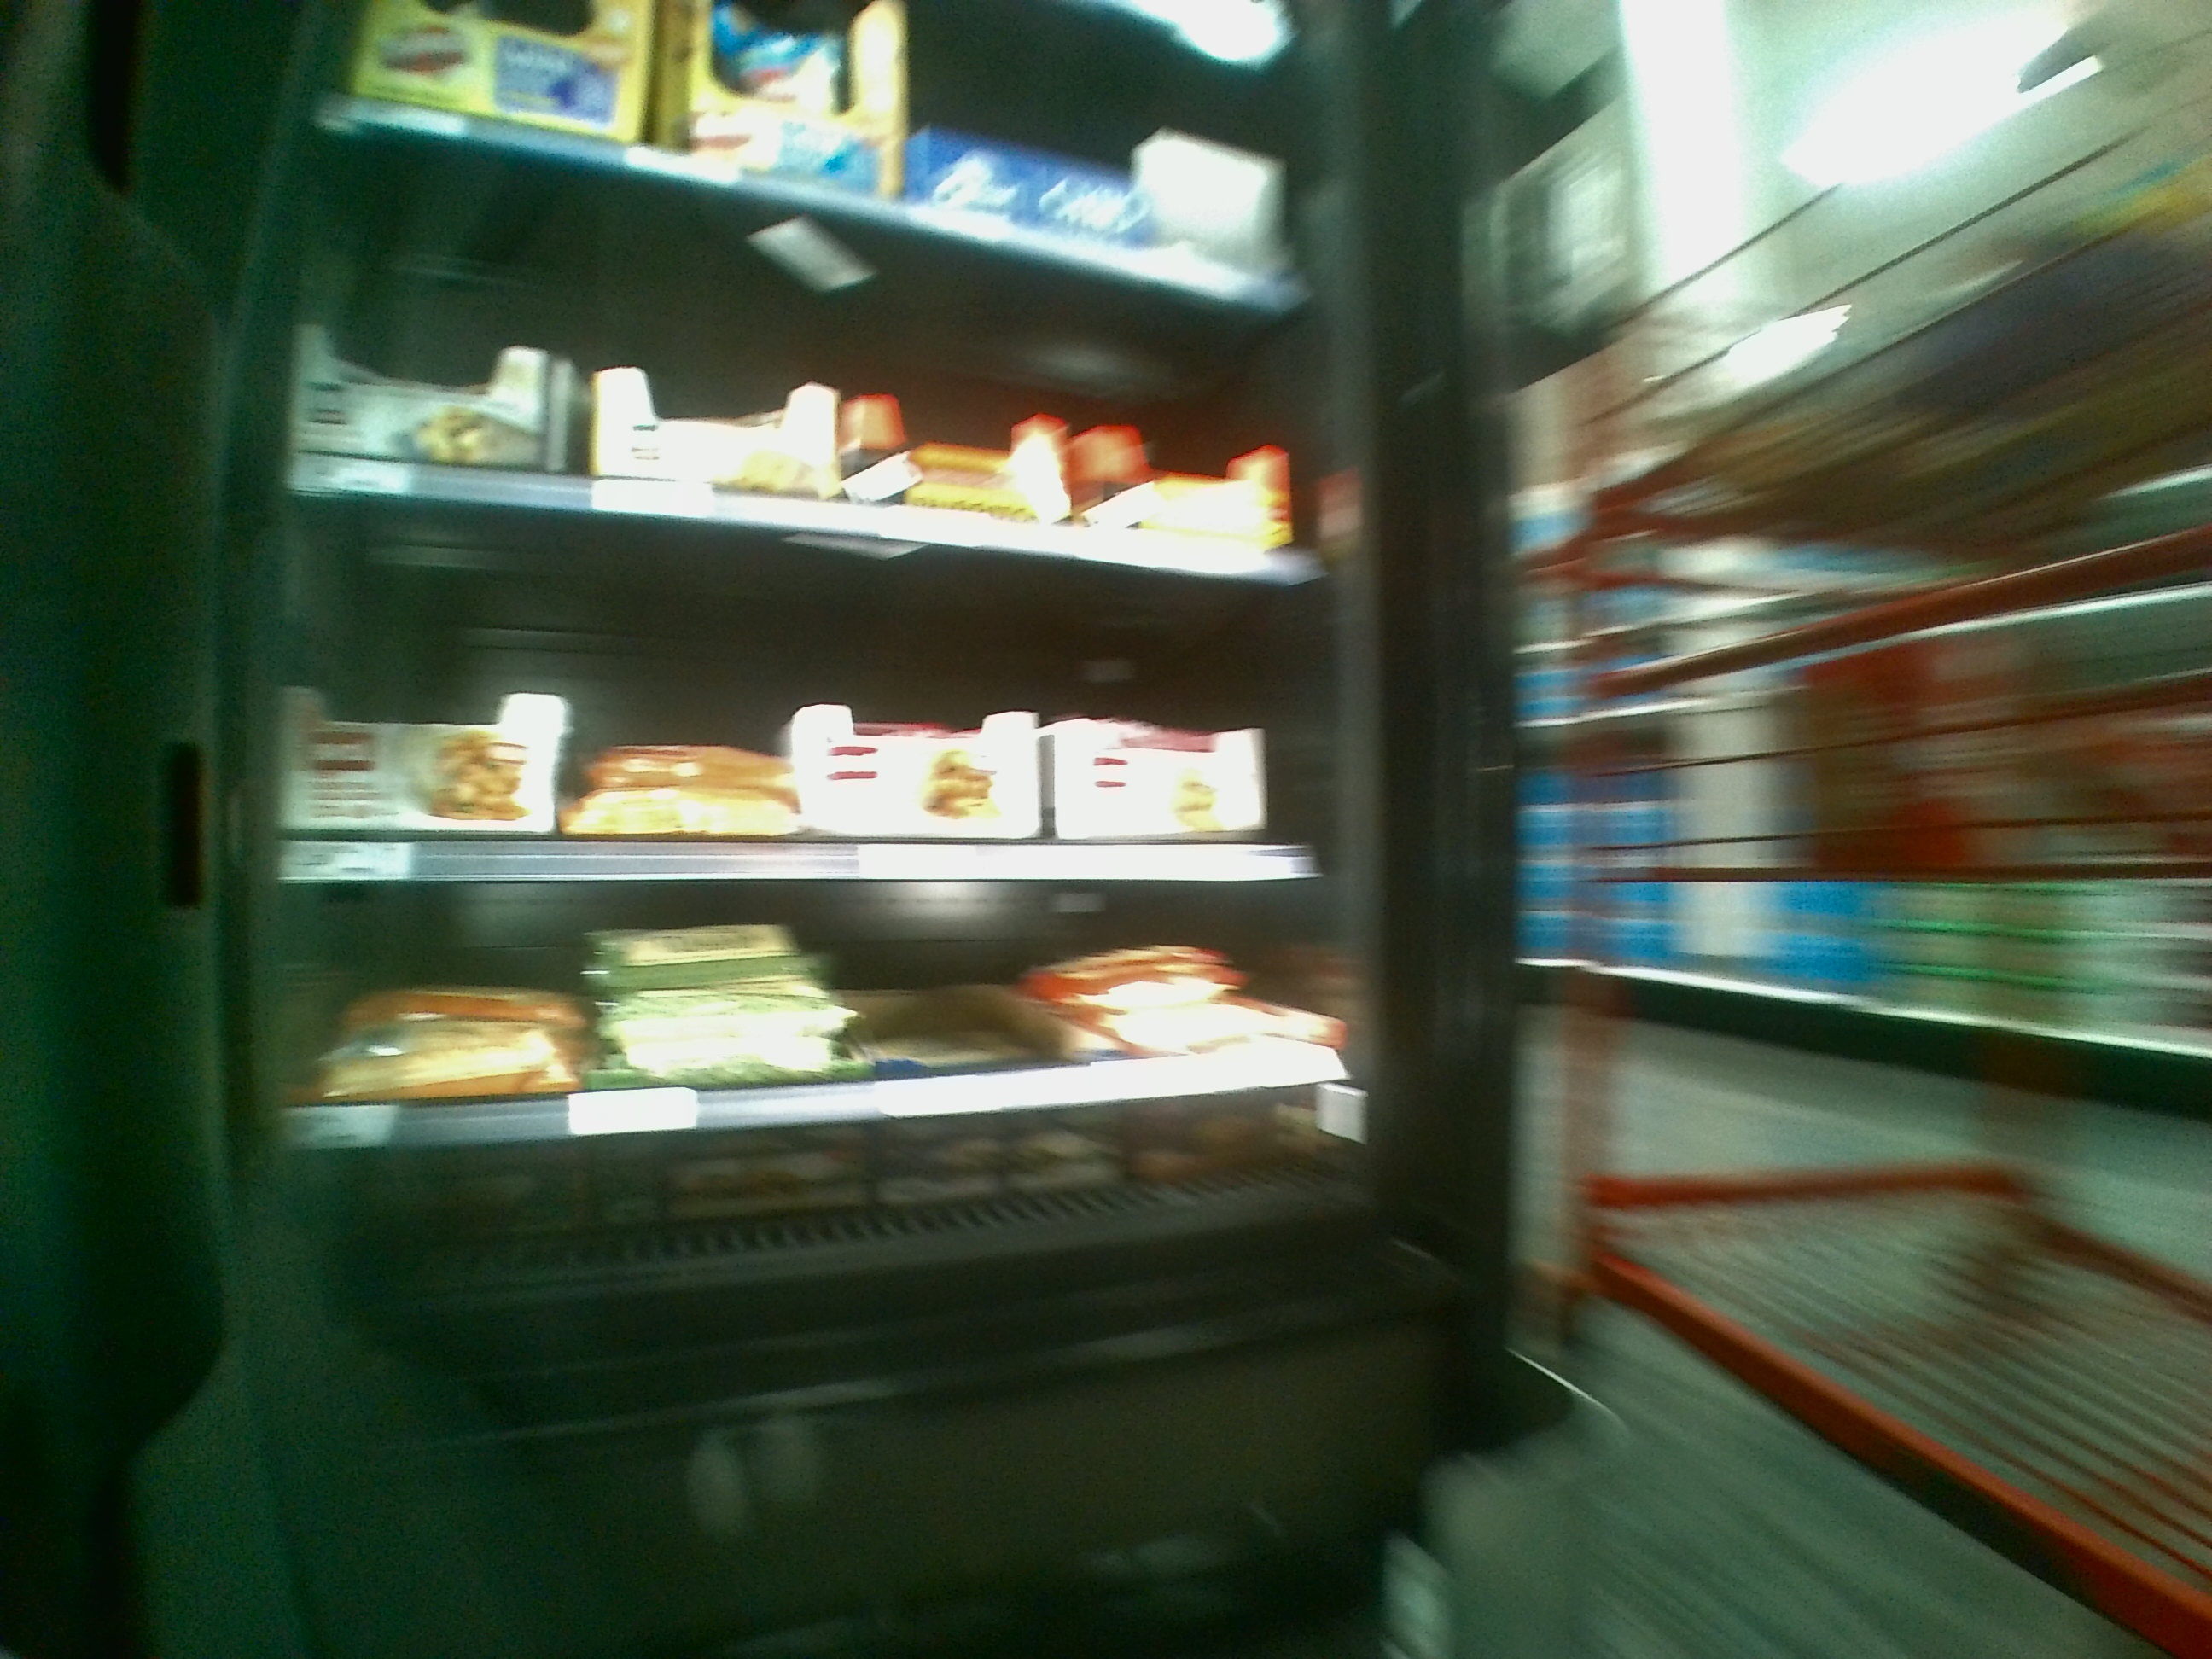shelf: (275, 878, 1353, 1227), (266, 554, 1353, 882), (266, 216, 1331, 542)
